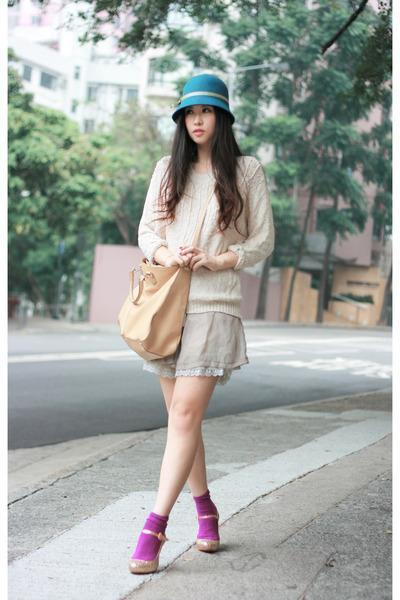bag: (114, 256, 200, 371)
hat: (156, 74, 229, 111)
shirt: (138, 156, 275, 313)
shoe: (132, 299, 250, 574)
skirt: (135, 480, 231, 560)
